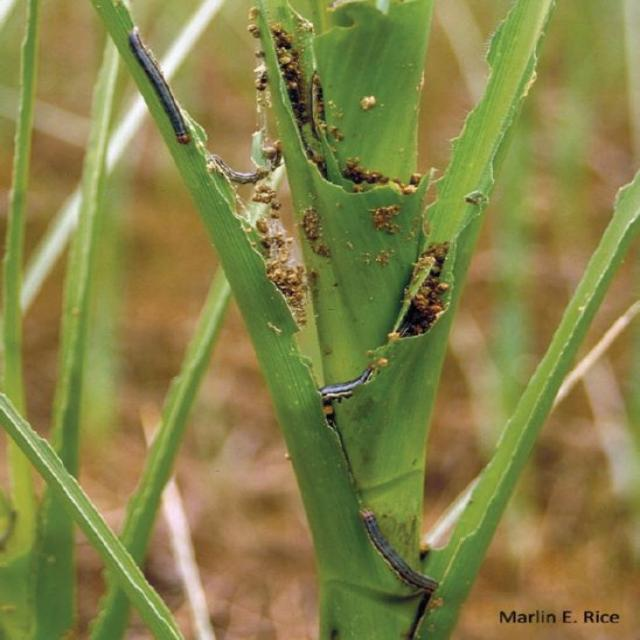armyworm: (223, 147, 328, 308), (256, 14, 352, 170), (122, 24, 223, 147), (337, 149, 454, 254), (396, 231, 466, 343)
